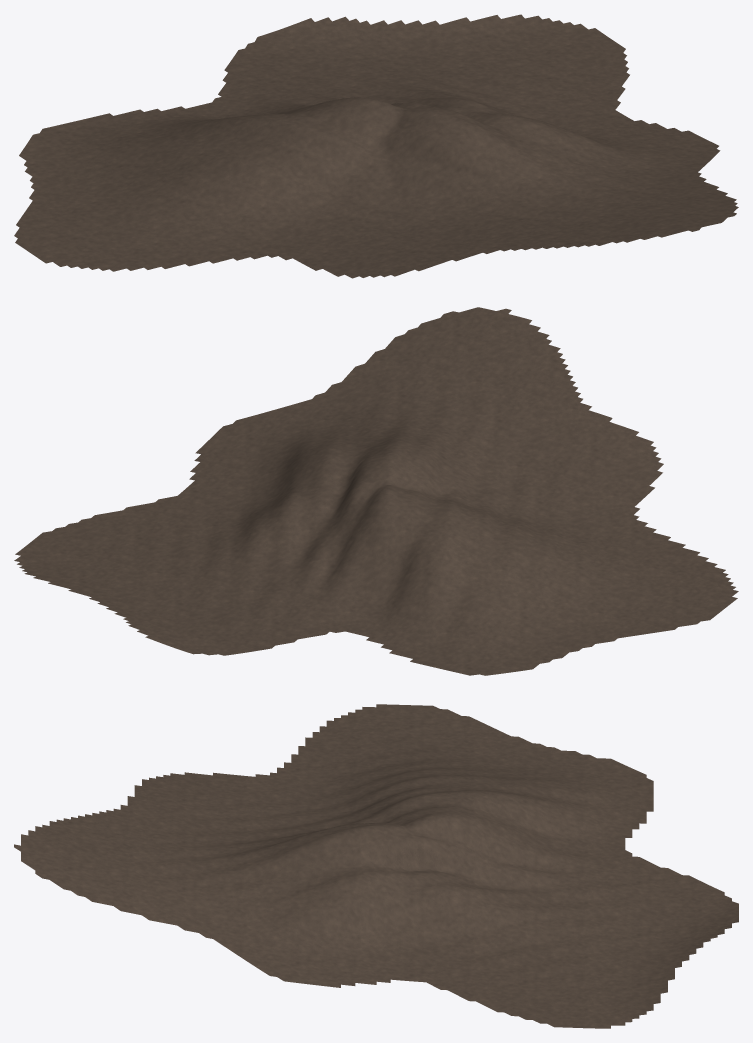
The model's file is dunes.dae.
3 renders of one model, top to bottom at view 1: azimuth 30°, elevation 25°; view 2: azimuth 150°, elevation 25°; view 3: azimuth 270°, elevation 25°, orthographic. The views are drawn at different scales.
Visible parts, largest first — view 1: dunes; view 2: dunes; view 3: dunes.
Part boxes in pixels (x1,y1,x2,y2): dunes: (14,14,738,278); dunes: (14,307,738,675); dunes: (14,704,738,1028).
Size of the model in its own units: 25.25 by 25.5 by 3.19.
Materials: 1 (1 with a texture image).
